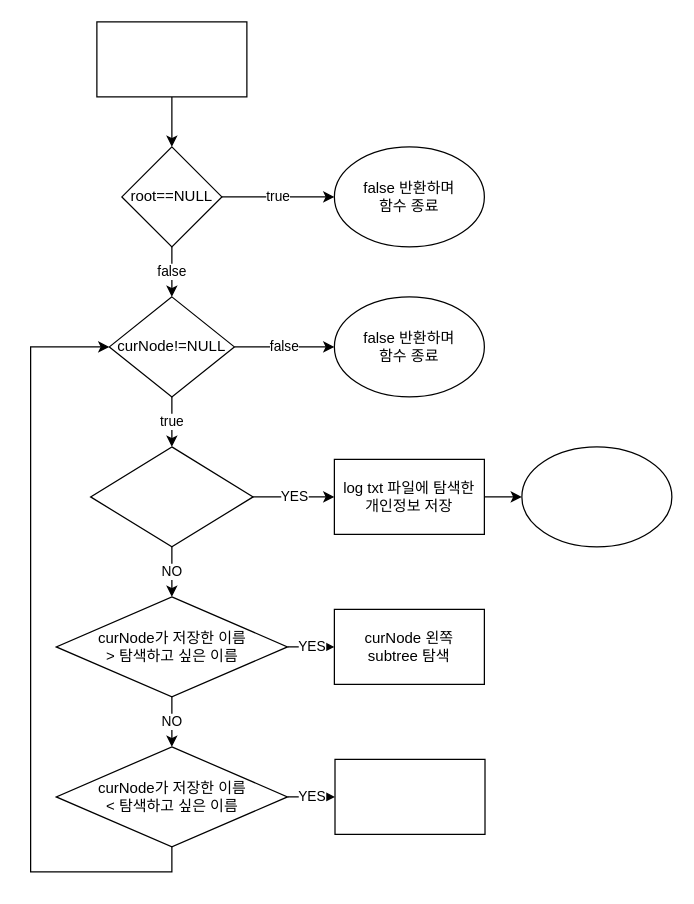
Some shapes in this 694 by 904 pixel diagram are drawn without their labels. Each missing label, with the centre of its shape:
curNode 오른쪽 subtree 탐색: pixel 409 796
curNode가 탐색하고자 한 이름을 저장함: pixel 171 496
NameBST root (curNode)부터 탐색 시작: pixel 171 59
true 반환하며 함수 종료: pixel 596 496
